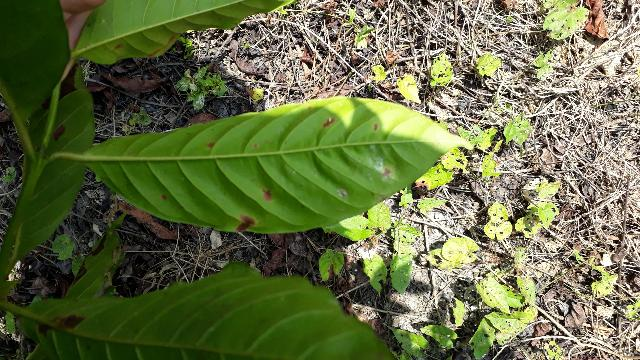rust_level_1: (170, 126, 561, 263)
